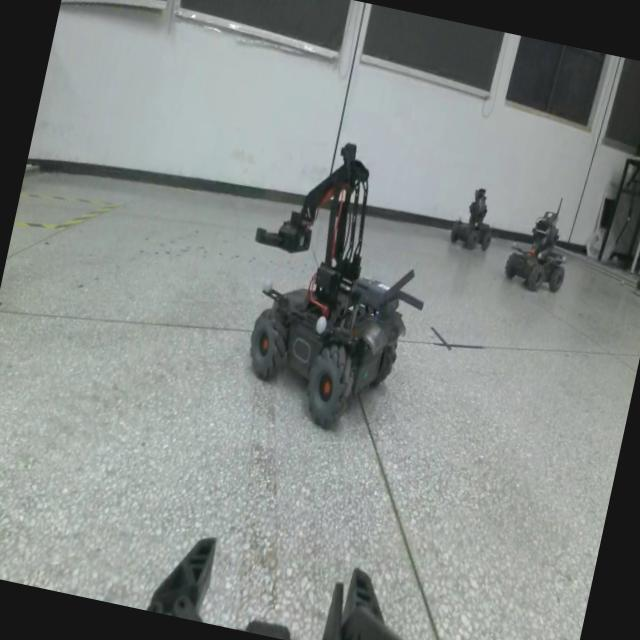ep: (217, 126, 446, 448)
s1: (500, 187, 578, 296), (444, 180, 504, 256)
